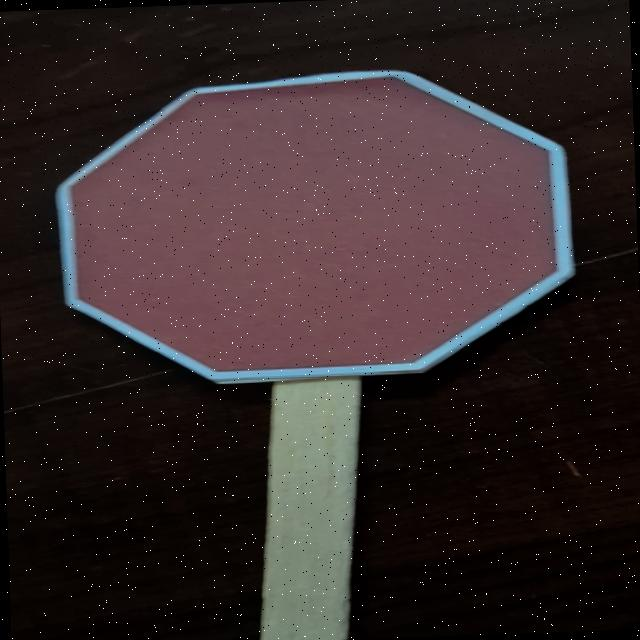Stop: (47, 54, 598, 393)
